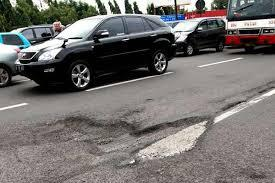Pothole: (60, 109, 212, 165), (216, 96, 248, 119), (251, 77, 275, 96)
